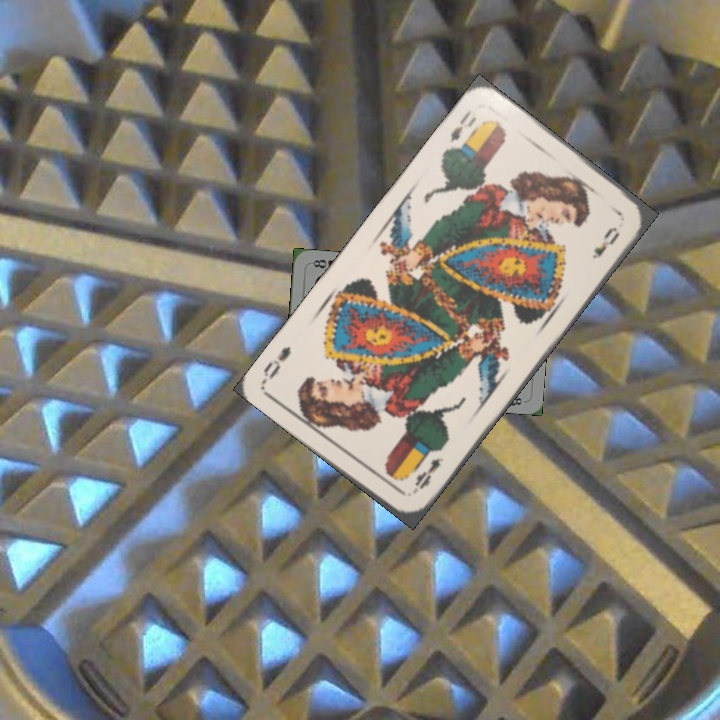EO: (408, 453, 447, 497), (445, 106, 479, 147)
